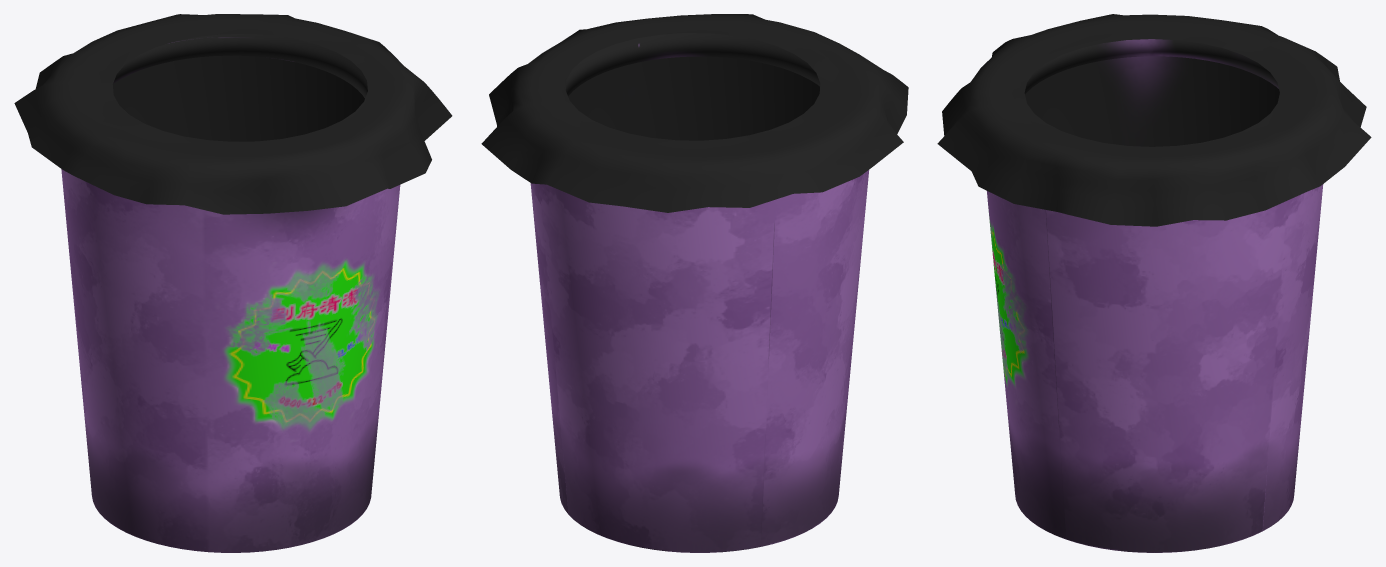
File: trashcan.fbx
The picture shows the model from 3 angles, left to right: view 1: azimuth 30°, elevation 25°; view 2: azimuth 150°, elevation 25°; view 3: azimuth 270°, elevation 25°; orthographic projection.
Parts seen in each view (by area): view 1: trashcan; view 2: trashcan; view 3: trashcan.
Part boxes in pixels (bbox=[...]): trashcan: bbox=[14, 14, 452, 552]; trashcan: bbox=[481, 14, 908, 552]; trashcan: bbox=[937, 14, 1371, 552].
Bounding box in the file's own units: 185 × 192 × 186.
Materials: 2 (2 with a texture image).
